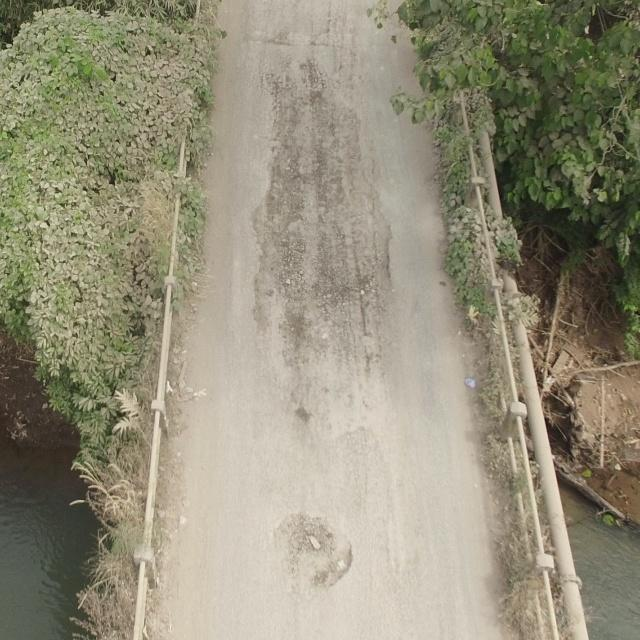BACHE: (260, 105, 386, 421), (277, 513, 352, 592)
